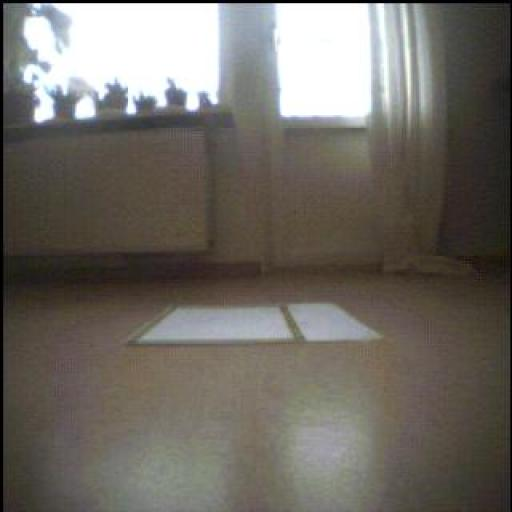Pad: (130, 303, 379, 343)
